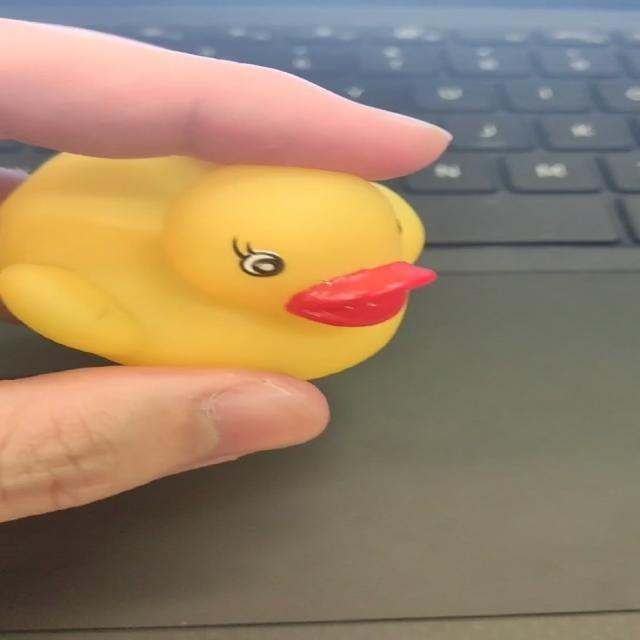rubber-duck: (0, 153, 434, 377)
